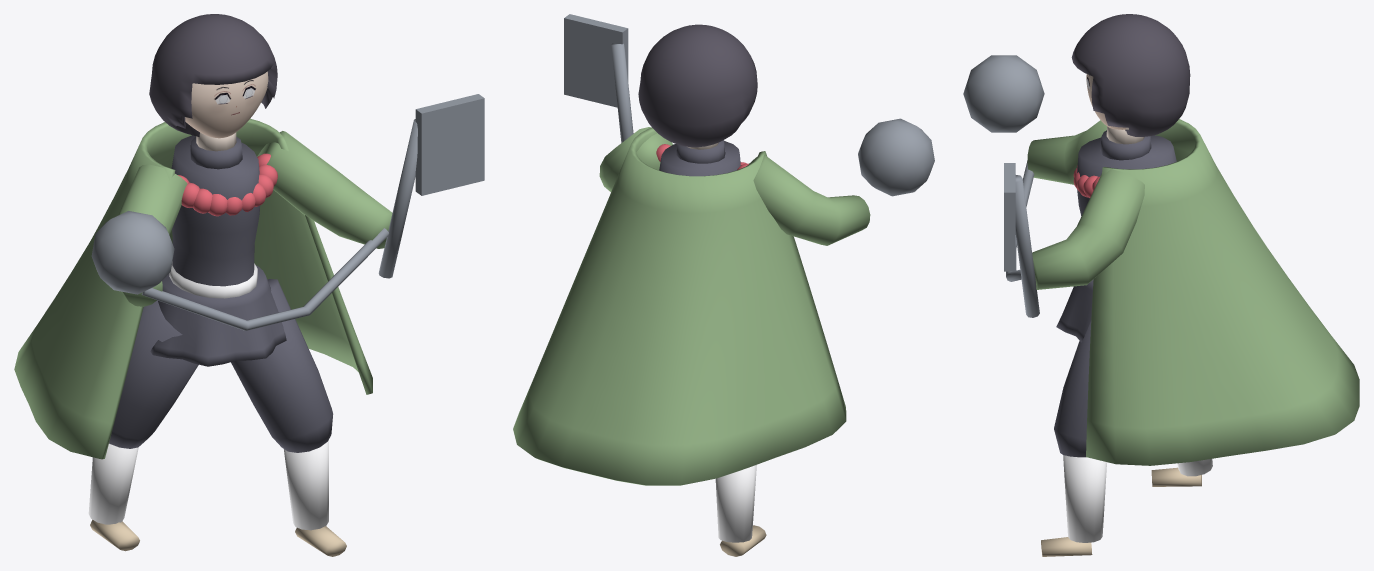
Rendered from gyomei.glb.
3 views of the same model, side by side, from view 1: azimuth 30°, elevation 25°; view 2: azimuth 150°, elevation 25°; view 3: azimuth 270°, elevation 25° (orthographic). The views are drawn at different scales.
Visible parts, largest first — view 1: OliveHaori, HairCrown, Torso, LegR_P, HipHem, ArmR, LegL_P, AxeHead, SpikedFlail, Head, LegR_W, ArmL (+7 smaller); view 2: OliveHaori, HairCrown, ArmL, SpikedFlail, AxeHead, LegL_W, ArmR, Torso, AxeHandle, Collar, FootL; view 3: OliveHaori, HairCrown, ArmR, SpikedFlail, LegR_W, LegR_P, ArmL, Torso, AxeHandle, HipHem, AxeHead, Collar (+4 smaller).
Part boxes in pixels (box(x1,y1,x2,y2)): OliveHaori: box(14, 118, 372, 459); HairCrown: box(149, 14, 277, 136); Torso: box(171, 135, 260, 286); LegR_P: box(231, 279, 333, 452); HipHem: box(150, 265, 286, 366); ArmR: box(257, 131, 392, 248); LegL_P: box(109, 300, 198, 448); AxeHead: box(415, 94, 484, 195); SpikedFlail: box(91, 211, 174, 294); Head: box(185, 71, 268, 138); LegR_W: box(284, 440, 328, 530); ArmL: box(118, 164, 187, 306); OliveHaori: box(513, 127, 846, 485); HairCrown: box(638, 24, 757, 147); ArmL: box(749, 155, 870, 245); SpikedFlail: box(858, 118, 934, 196); AxeHead: box(564, 14, 628, 107); LegL_W: box(715, 464, 756, 542); ArmR: box(599, 127, 672, 191); Torso: box(659, 141, 740, 176); AxeHandle: box(611, 43, 633, 142); Collar: box(676, 140, 725, 163); FootL: box(720, 525, 766, 556); OliveHaori: box(1086, 119, 1359, 465); HairCrown: box(1071, 14, 1190, 136); ArmR: box(1032, 169, 1144, 289); SpikedFlail: box(963, 55, 1044, 132); LegR_W: box(1063, 455, 1106, 542); LegR_P: box(1054, 320, 1091, 457); ArmL: box(1027, 120, 1106, 184); Torso: box(1077, 135, 1176, 215); AxeHandle: box(1015, 175, 1039, 317); HipHem: box(1056, 279, 1093, 342); AxeHead: box(1004, 163, 1015, 271); Collar: box(1100, 130, 1151, 160).
Size of the model in its own units: 1.68 by 2.16 by 1.56.
9 materials, 1 textured.
